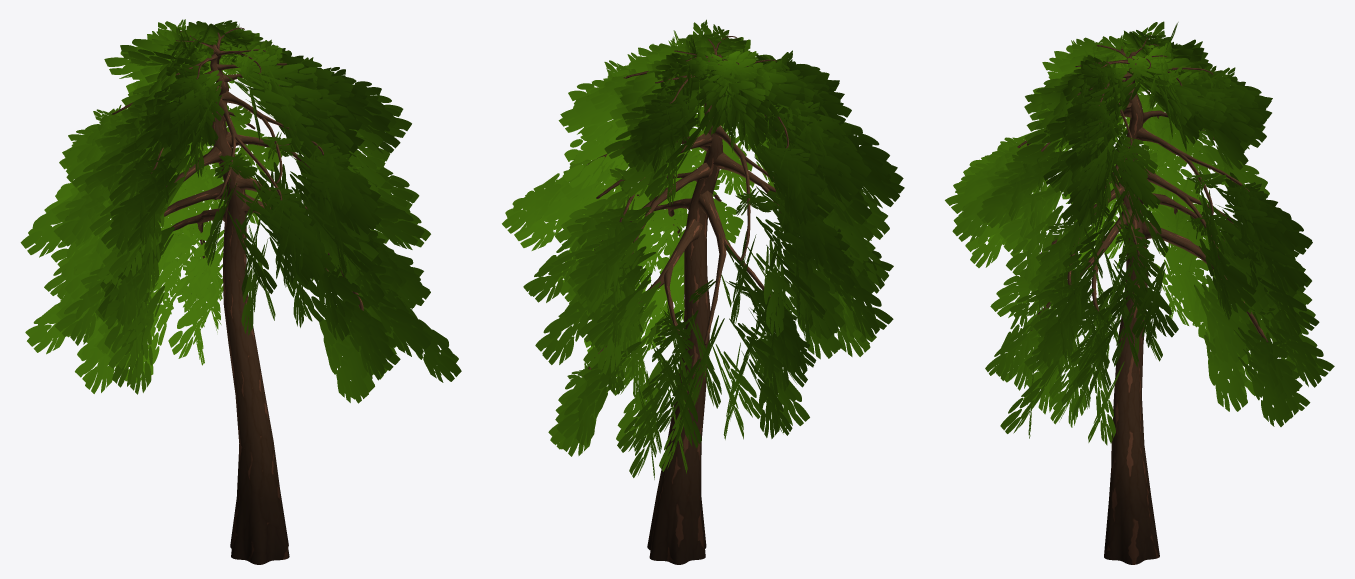
Rendered from GiantPine_2.gltf.
The picture shows the model from 3 angles, left to right: view 1: azimuth 30°, elevation 25°; view 2: azimuth 150°, elevation 25°; view 3: azimuth 270°, elevation 25°; orthographic projection. The views are drawn at different scales.
Visible parts, largest first — view 1: GiantPine_2; view 2: GiantPine_2; view 3: GiantPine_2.
Part boxes in pixels (left/top/right/bottom): GiantPine_2: left=20, top=19, right=461, bottom=564; GiantPine_2: left=502, top=19, right=904, bottom=564; GiantPine_2: left=945, top=21, right=1334, bottom=564.
Bounding box in the file's own units: 12.76 × 16.9 × 12.45.
2 materials, 2 textured.
